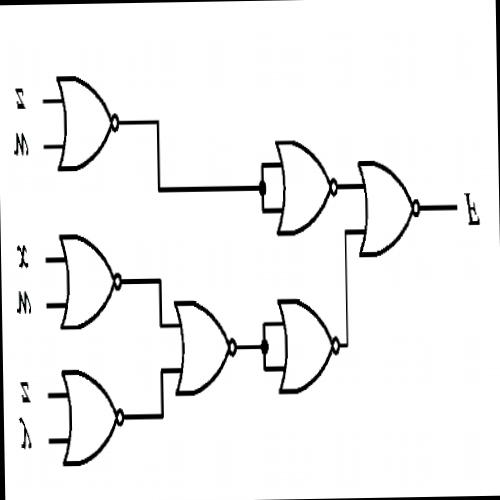nor: (164, 278, 242, 418), (351, 144, 429, 276), (47, 60, 125, 189), (52, 353, 130, 478), (264, 124, 342, 248), (267, 284, 344, 408), (49, 222, 128, 338)
